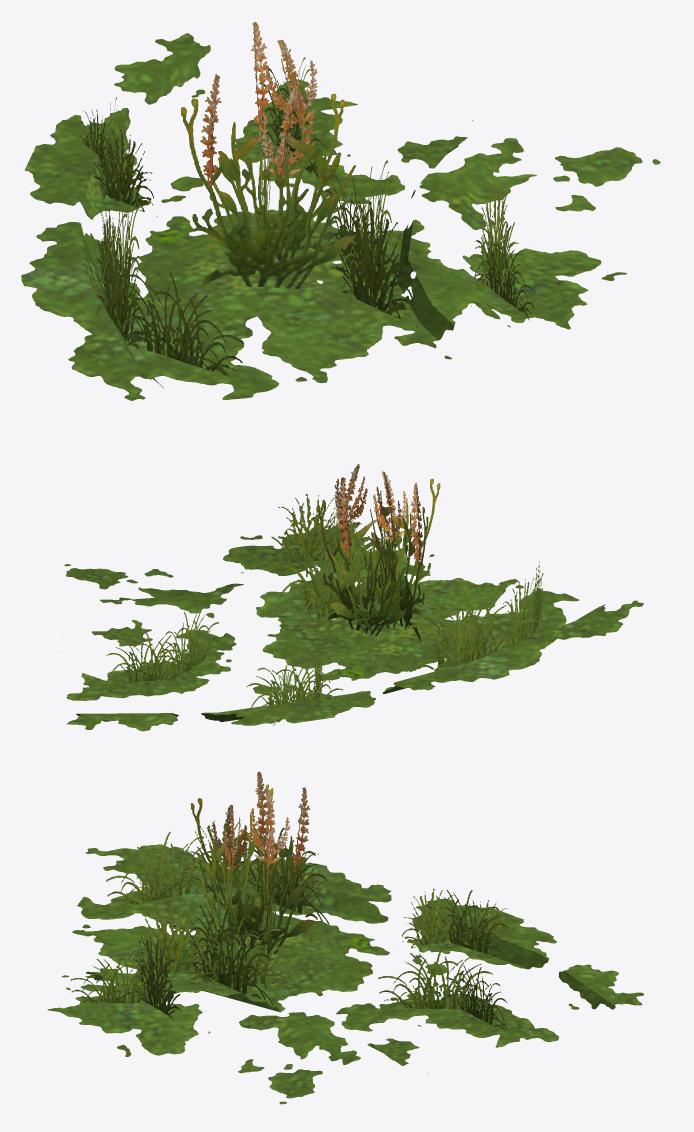
Rendered from 4006_Item_cao_3.FBX.
3 renders of one model, top to bottom at view 1: azimuth 30°, elevation 25°; view 2: azimuth 150°, elevation 25°; view 3: azimuth 270°, elevation 25°, orthographic. The views are drawn at different scales.
Visible parts, largest first — view 1: 4006_Item_cao_3; view 2: 4006_Item_cao_3; view 3: 4006_Item_cao_3.
Boxes of the visible parts, x1=… form: 4006_Item_cao_3: x1=21, y1=22, x2=660, y2=400; 4006_Item_cao_3: x1=63, y1=464, x2=643, y2=731; 4006_Item_cao_3: x1=47, y1=771, x2=644, y2=1104.
Bounding box in the file's own units: 33.83 × 10.78 × 35.13.
